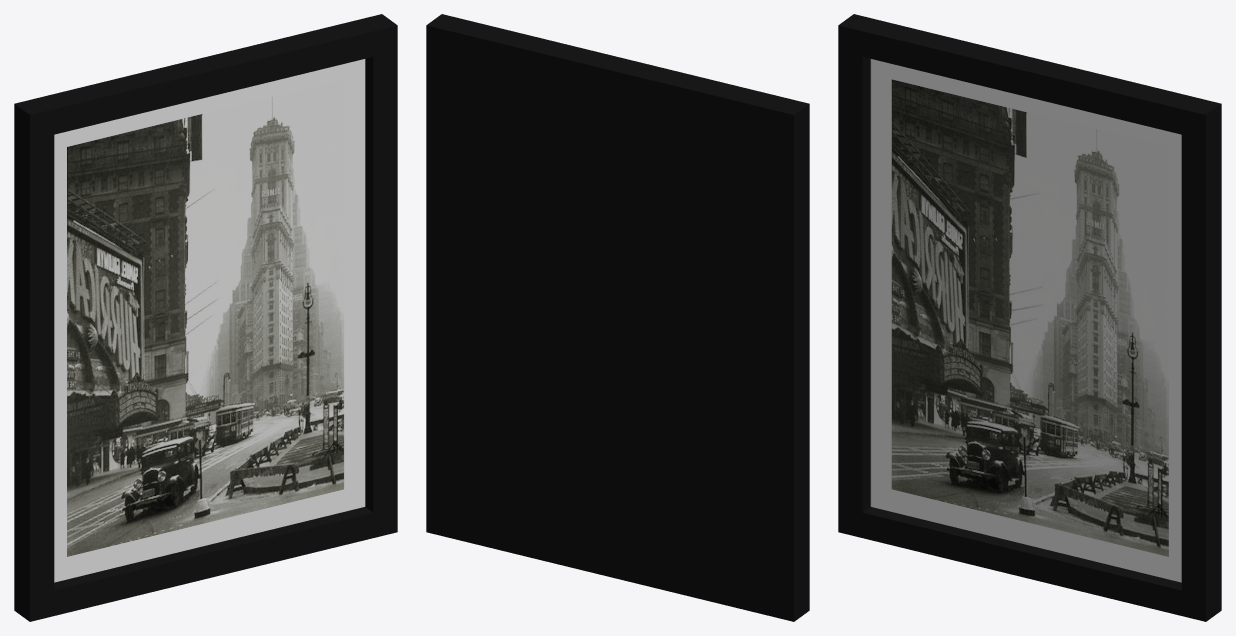
The model's file is Picture 3.FBX.
3 views of the same model, side by side, from view 1: azimuth 30°, elevation 25°; view 2: azimuth 150°, elevation 25°; view 3: azimuth 330°, elevation 25° (orthographic).
Visible parts, largest first — view 1: Picture 3; view 2: Picture 3; view 3: Picture 3.
Part boxes in pixels (x1,y1,x2,y2): Picture 3: (14,14,397,621); Picture 3: (426,14,809,621); Picture 3: (838,14,1221,621).
Bounding box in the file's own units: 61.86 × 81.47 × 4.53.
1 material, 1 textured.
